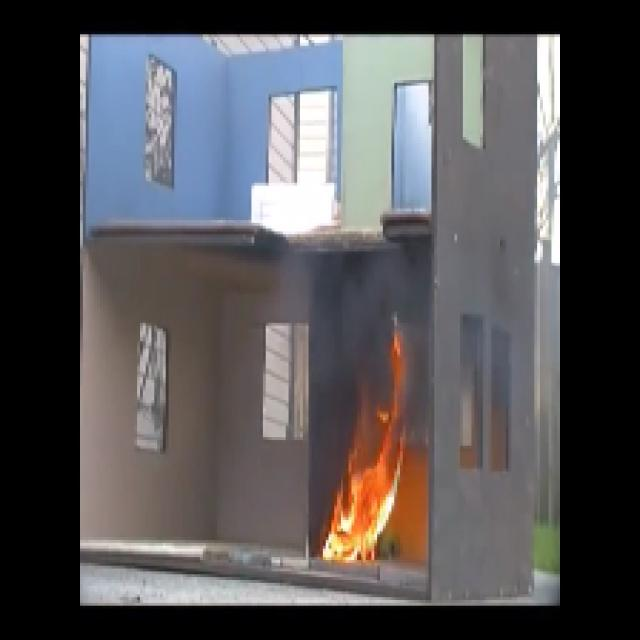fire: (326, 450, 400, 558)
smoke: (313, 253, 417, 327), (311, 327, 382, 418)
